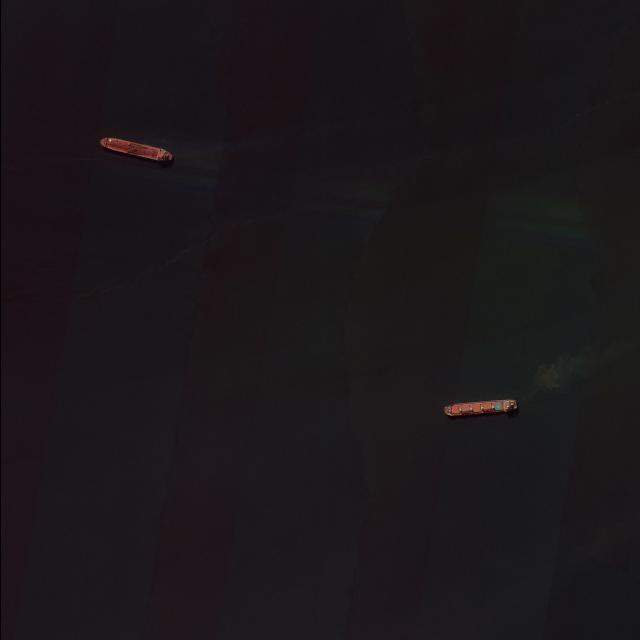ship: (99, 136, 172, 162), (442, 398, 516, 416)
